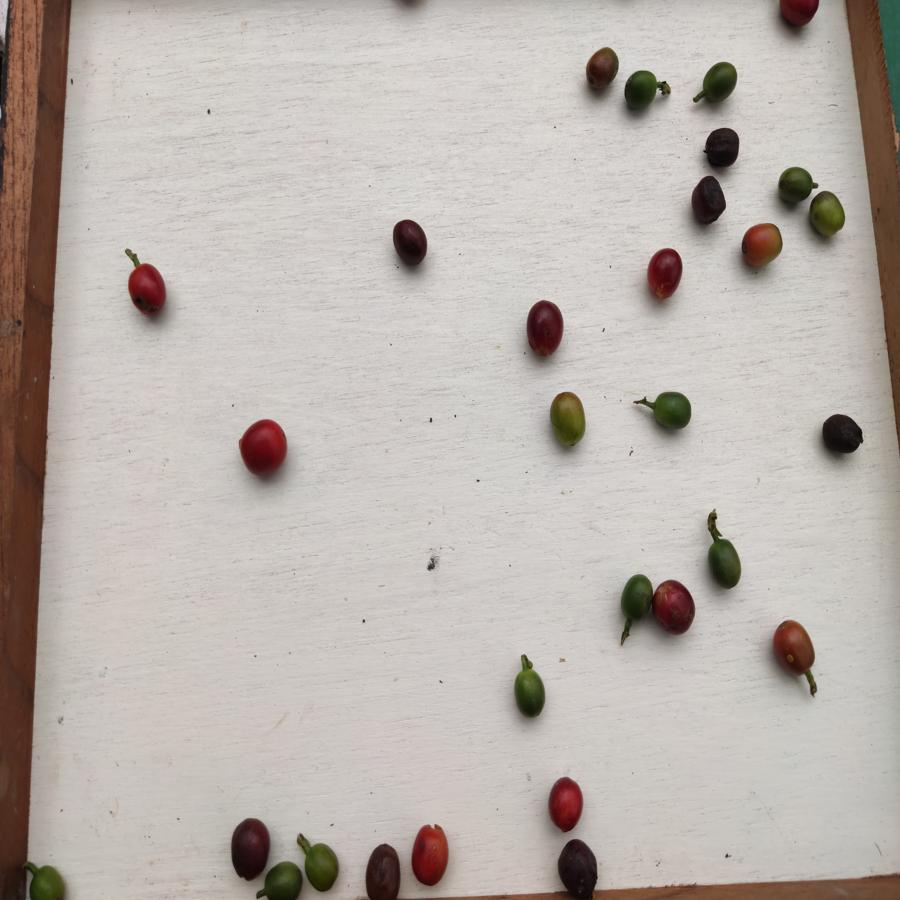Inmaduro: (651, 387, 694, 435), (705, 538, 743, 591), (305, 843, 343, 895), (511, 665, 547, 718), (809, 190, 847, 239), (699, 57, 739, 103), (261, 860, 303, 900), (25, 859, 65, 900), (623, 66, 657, 112), (776, 163, 813, 205), (620, 573, 652, 620)
Maduro: (239, 414, 289, 478), (411, 823, 455, 889), (127, 262, 172, 323), (547, 773, 584, 835), (780, 1, 818, 29)
Pinton: (769, 618, 823, 678), (549, 387, 589, 449), (742, 220, 784, 275), (583, 45, 619, 95)
Sobremaduro: (651, 577, 696, 638), (229, 813, 270, 879), (555, 837, 601, 895), (363, 840, 405, 900), (819, 411, 868, 459), (527, 298, 564, 356), (645, 246, 684, 300), (687, 176, 729, 226), (391, 217, 429, 267), (704, 127, 743, 171)
